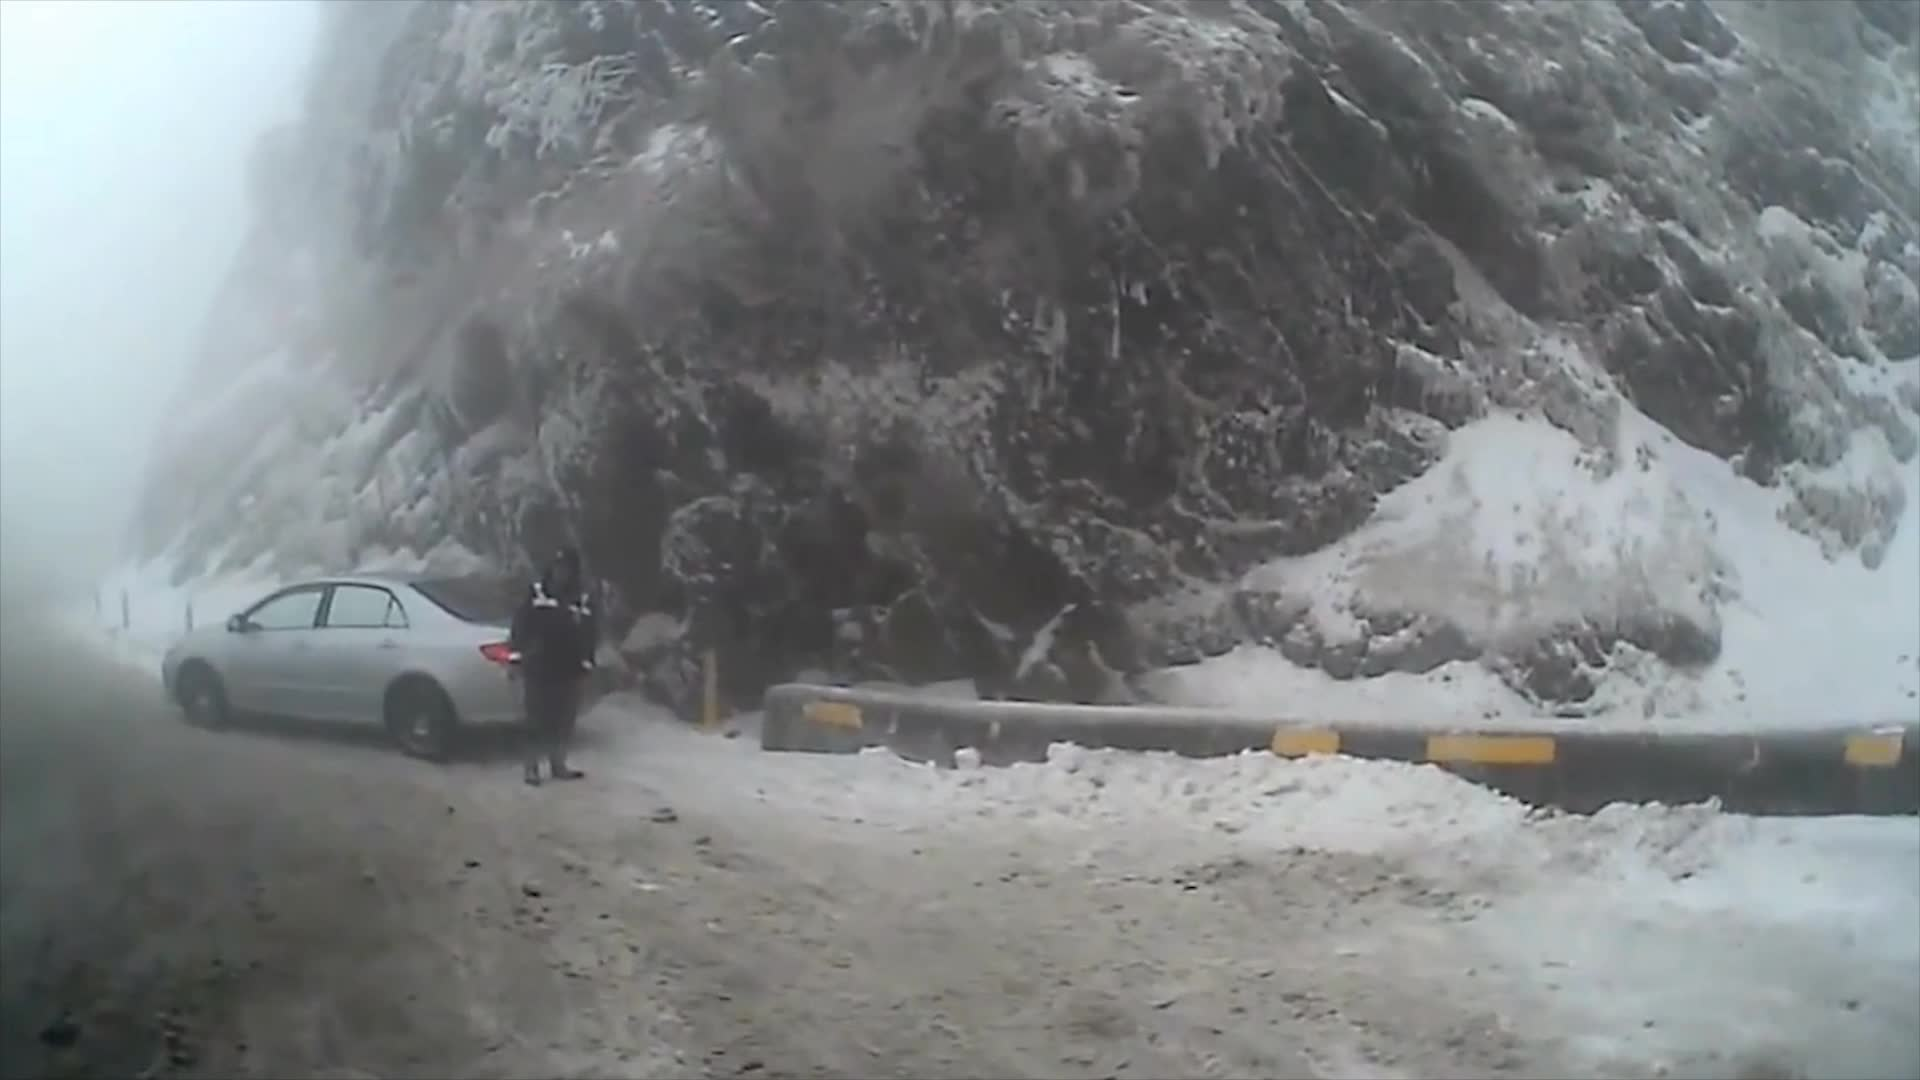pedestrian: (513, 548, 597, 786)
vehicle: (159, 569, 608, 766)
